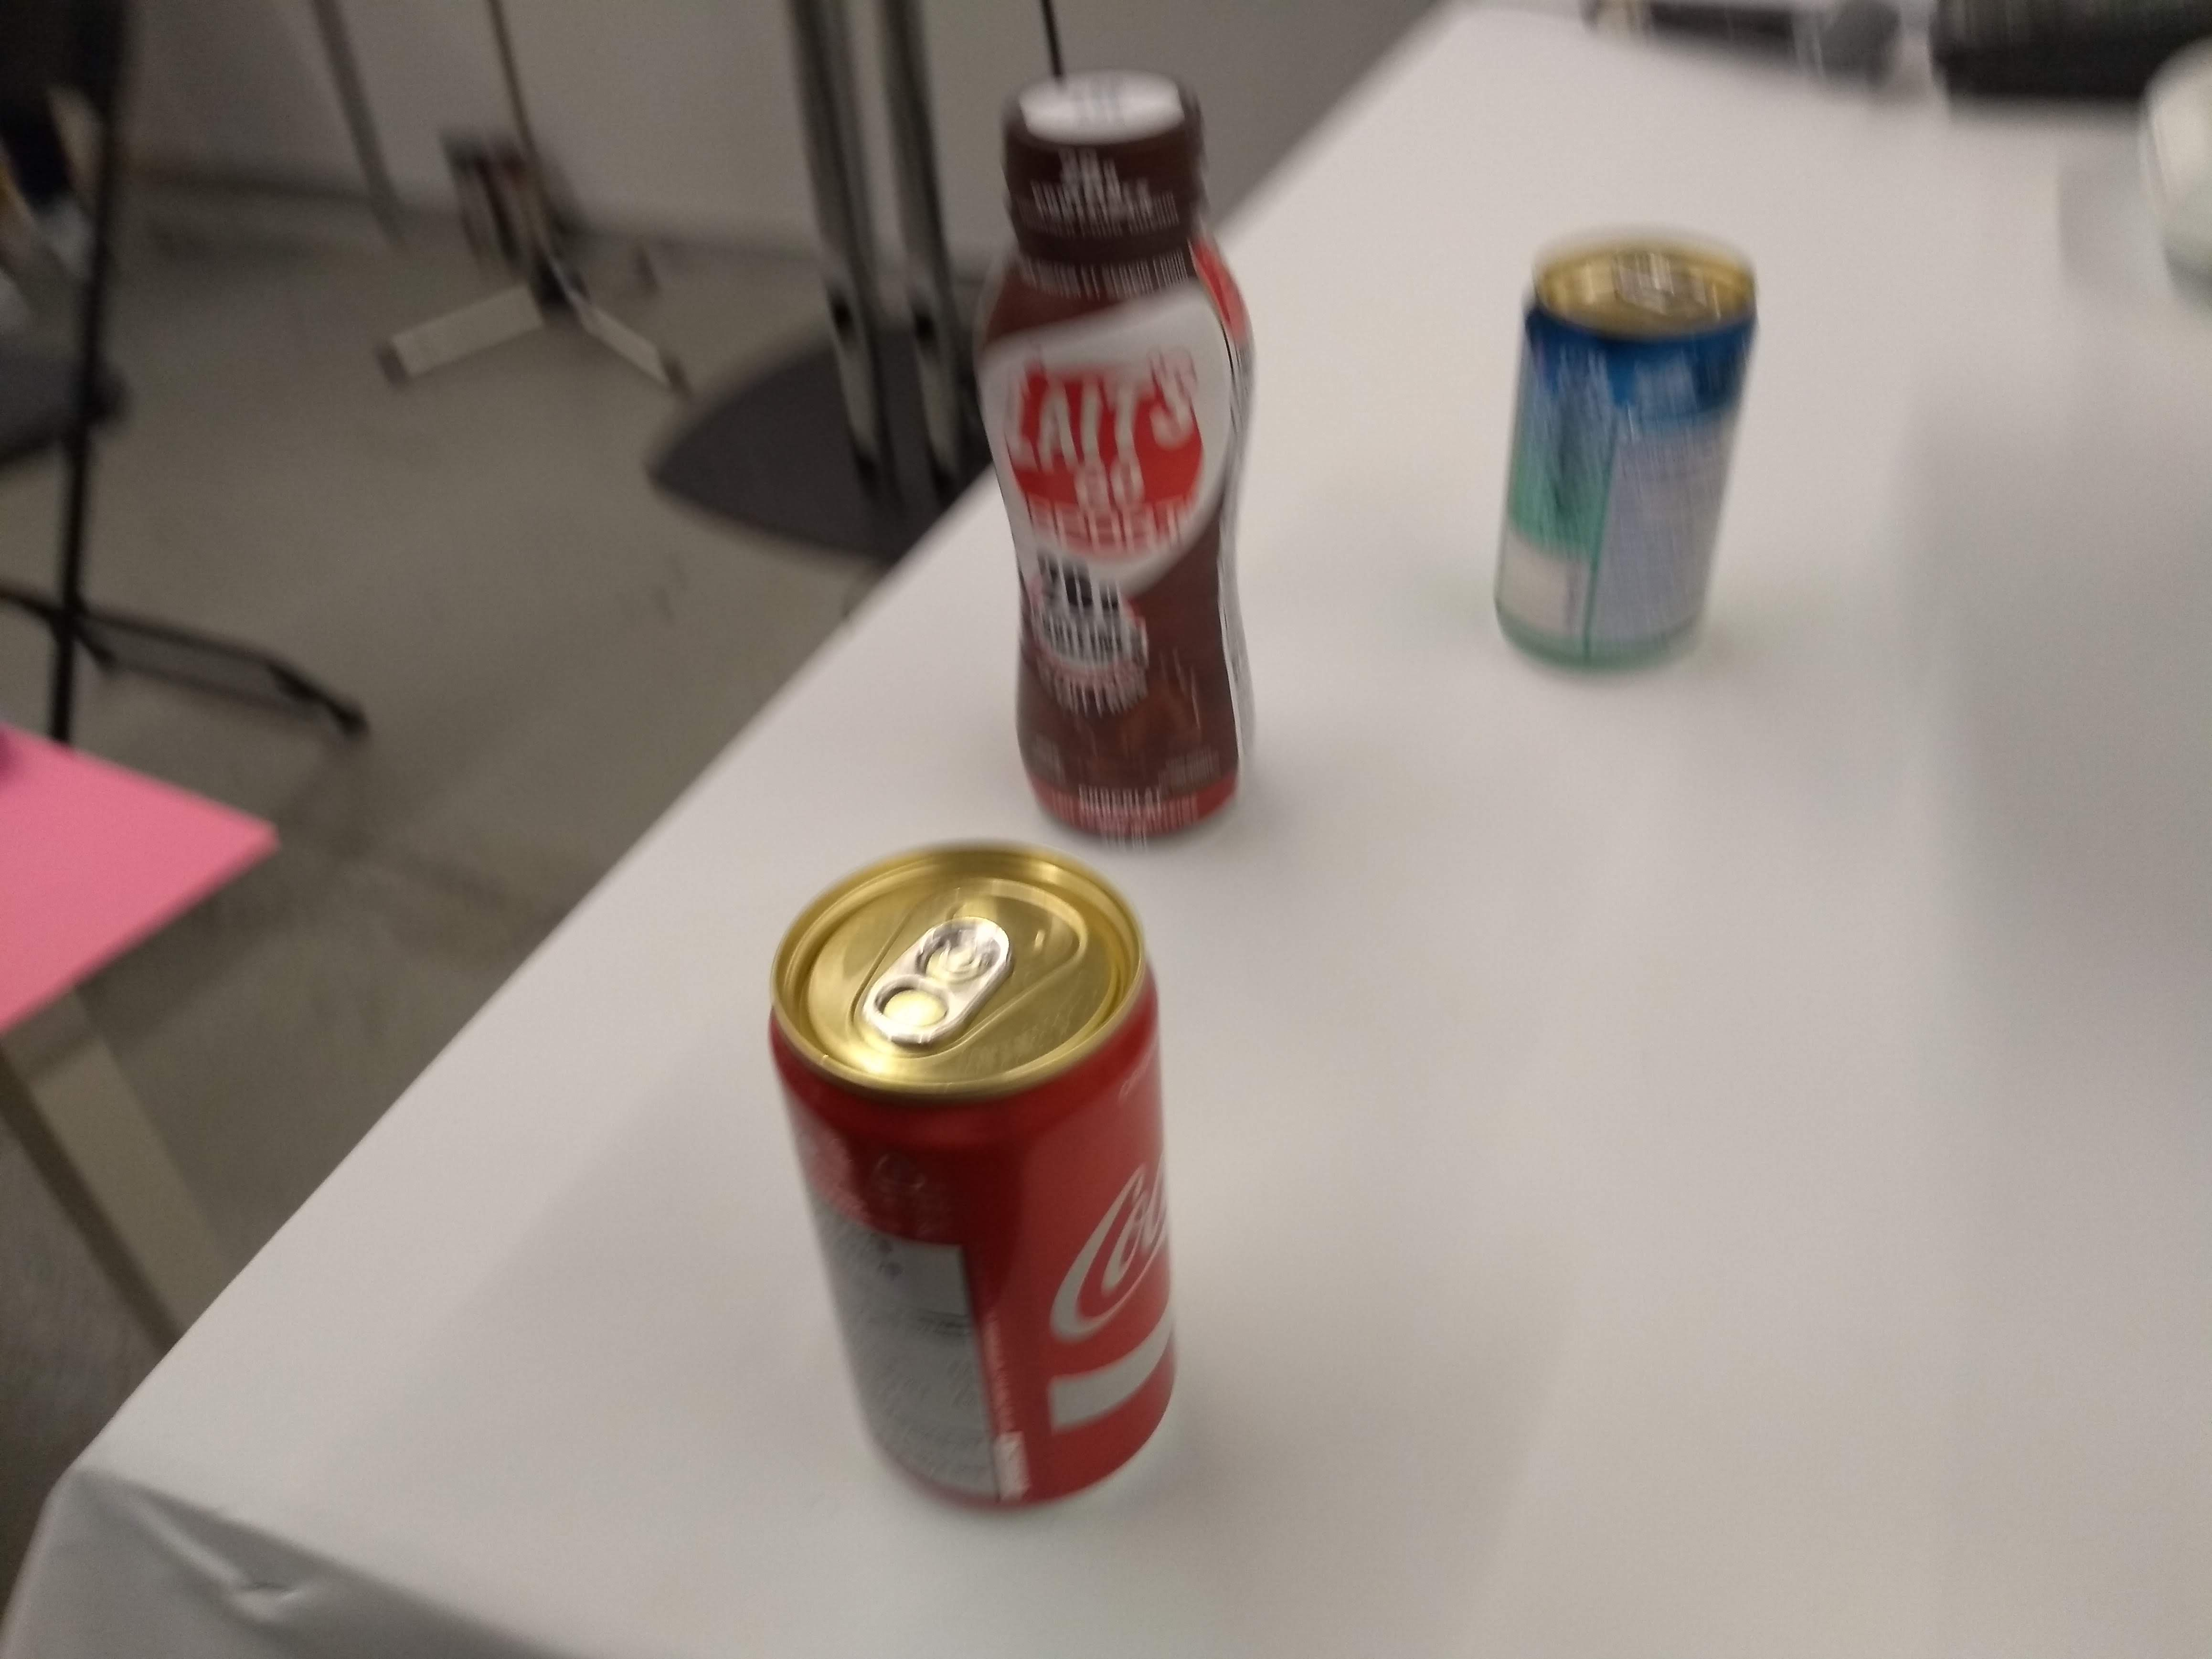chocolate_drink: (954, 64, 1278, 873)
coke: (752, 836, 1197, 1527)
sprite: (1475, 218, 1770, 680)
